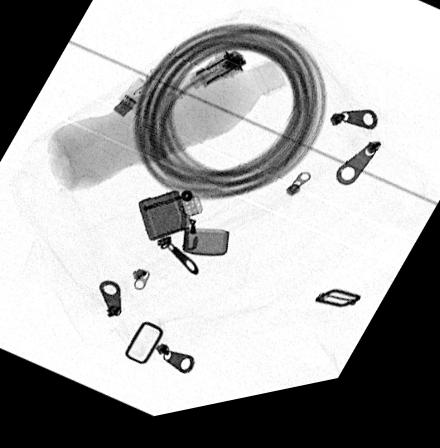Lighter: (137, 195, 229, 265)
